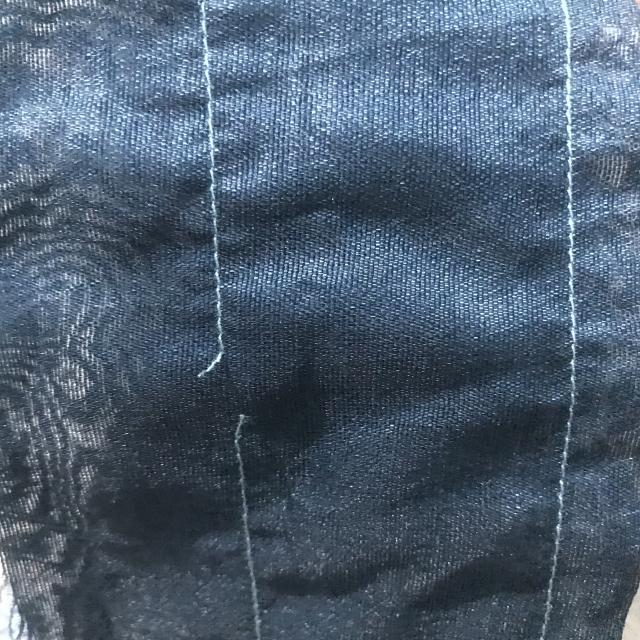broken: (188, 322, 278, 448)
good: (197, 189, 238, 305)
